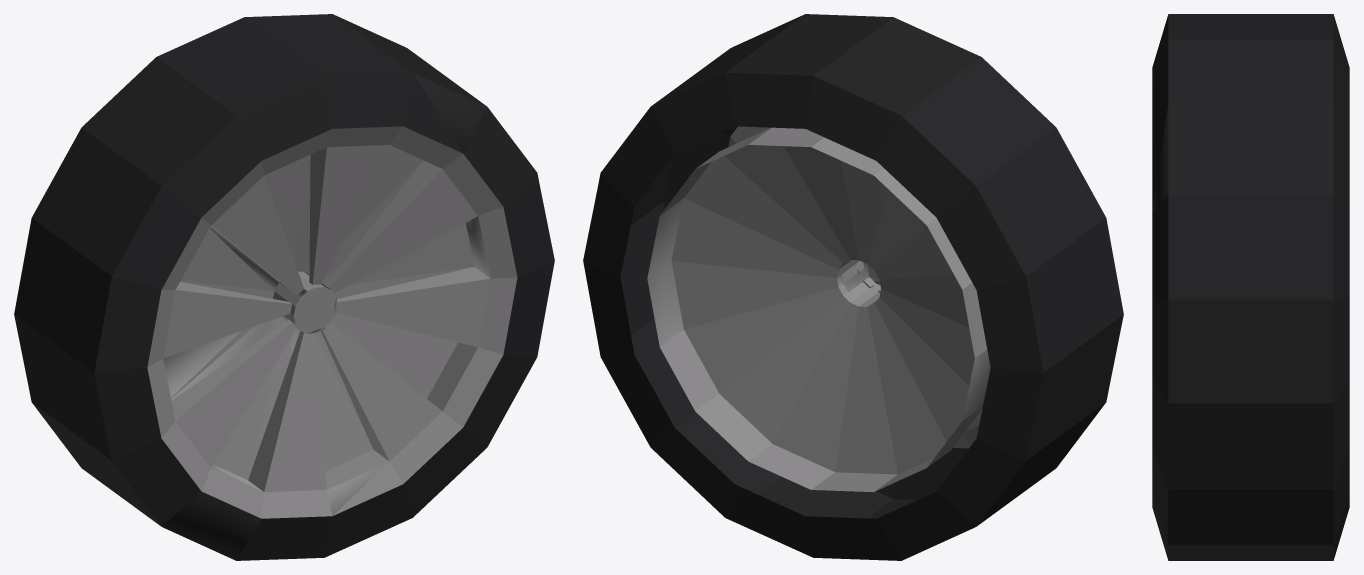
The model's file is car_wheel.fbx.
The picture shows the model from 3 angles, left to right: view 1: azimuth 30°, elevation 25°; view 2: azimuth 150°, elevation 25°; view 3: azimuth 270°, elevation 25°; orthographic projection. The views are drawn at different scales.
Parts seen in each view (by area): view 1: car_wheel; view 2: car_wheel; view 3: car_wheel.
Boxes of the visible parts, <box> form: car_wheel: <box>14,14,554,560</box>; car_wheel: <box>583,14,1123,560</box>; car_wheel: <box>1152,14,1349,560</box>.
Size of the model in its own units: 25.19 by 69.88 by 69.88.
